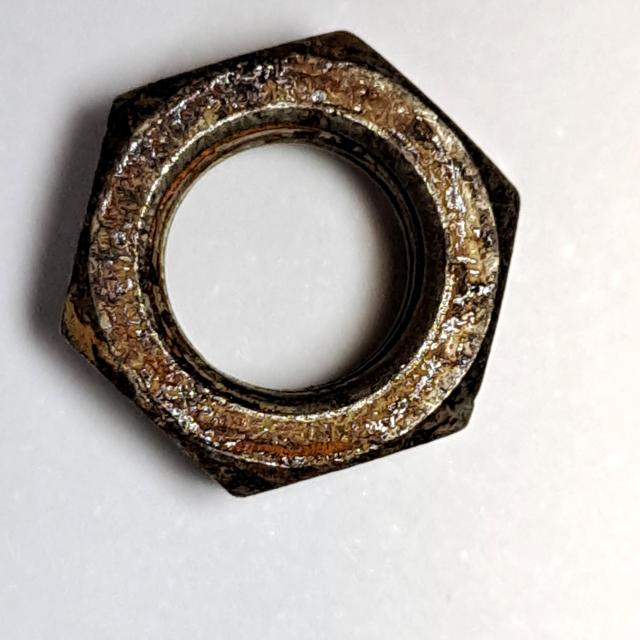Rust: (49, 17, 533, 514)
